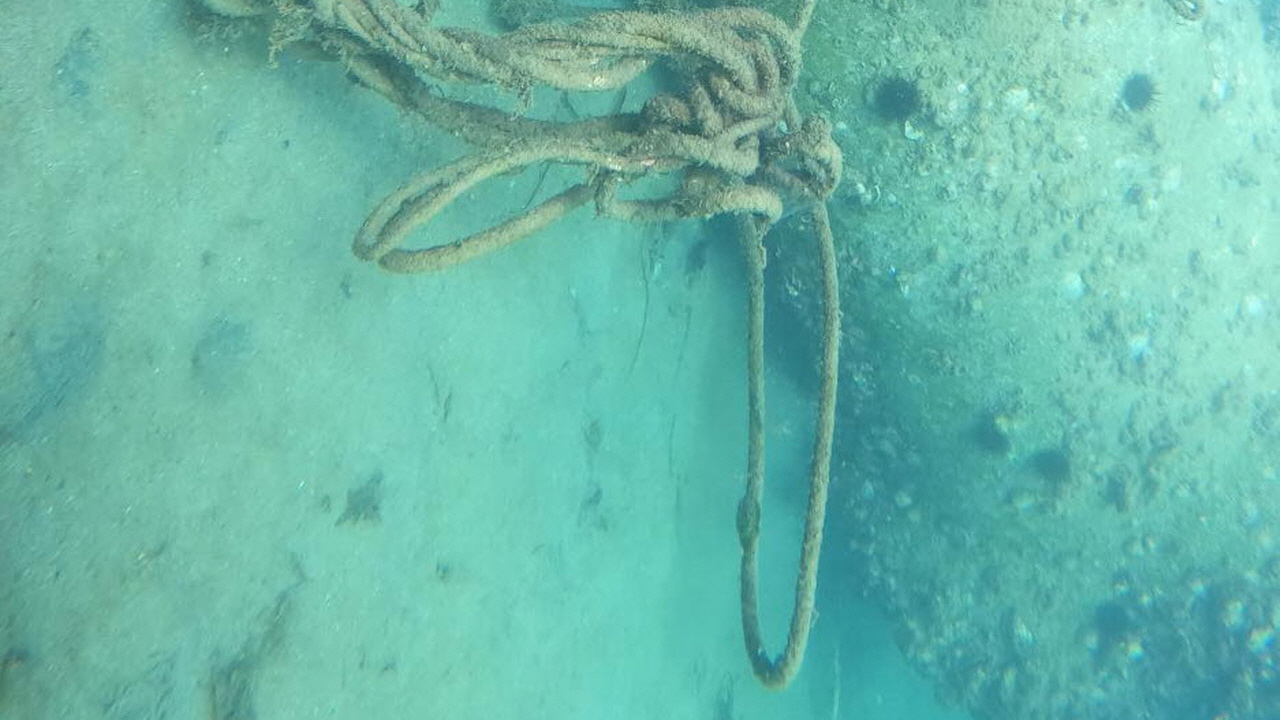bundle of ropes: (182, 0, 847, 693)
